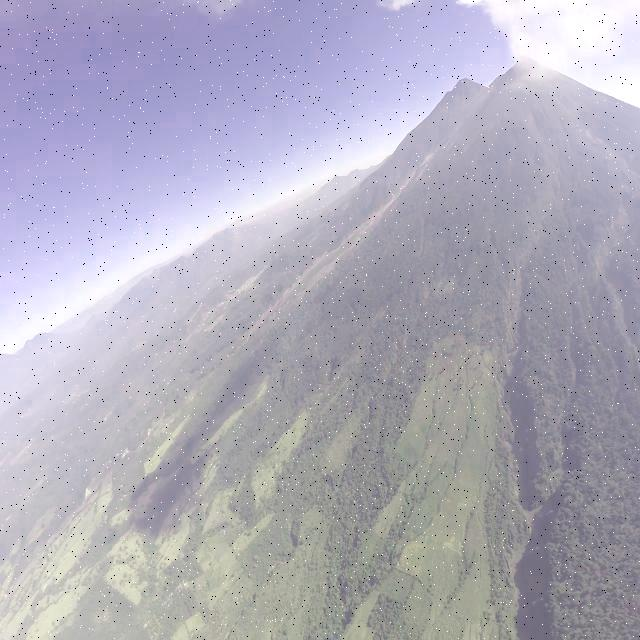Summit: (506, 51, 548, 74)
